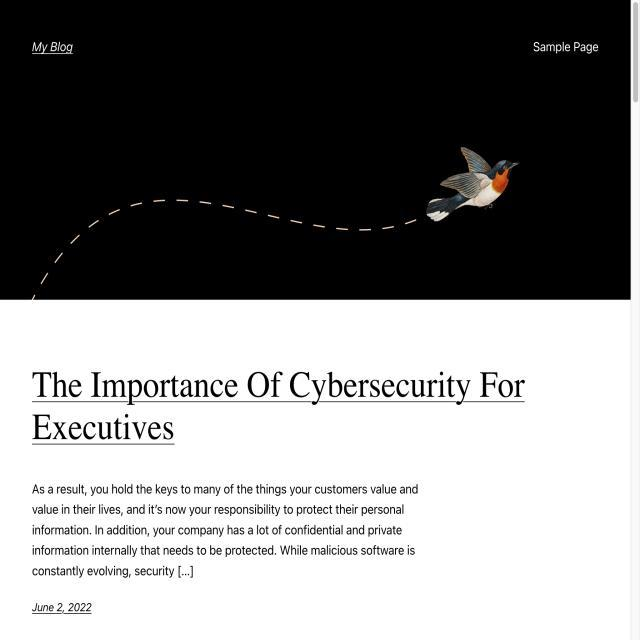text: (25, 363, 531, 451), (33, 473, 436, 583)
